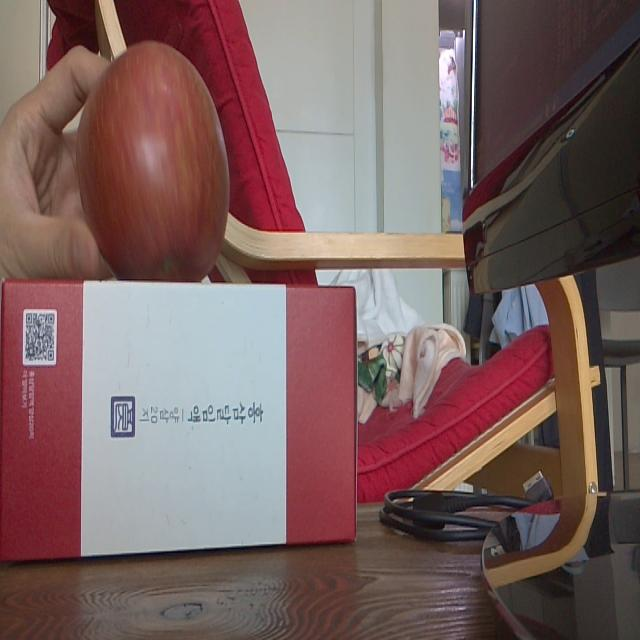apple: (78, 38, 230, 284)
